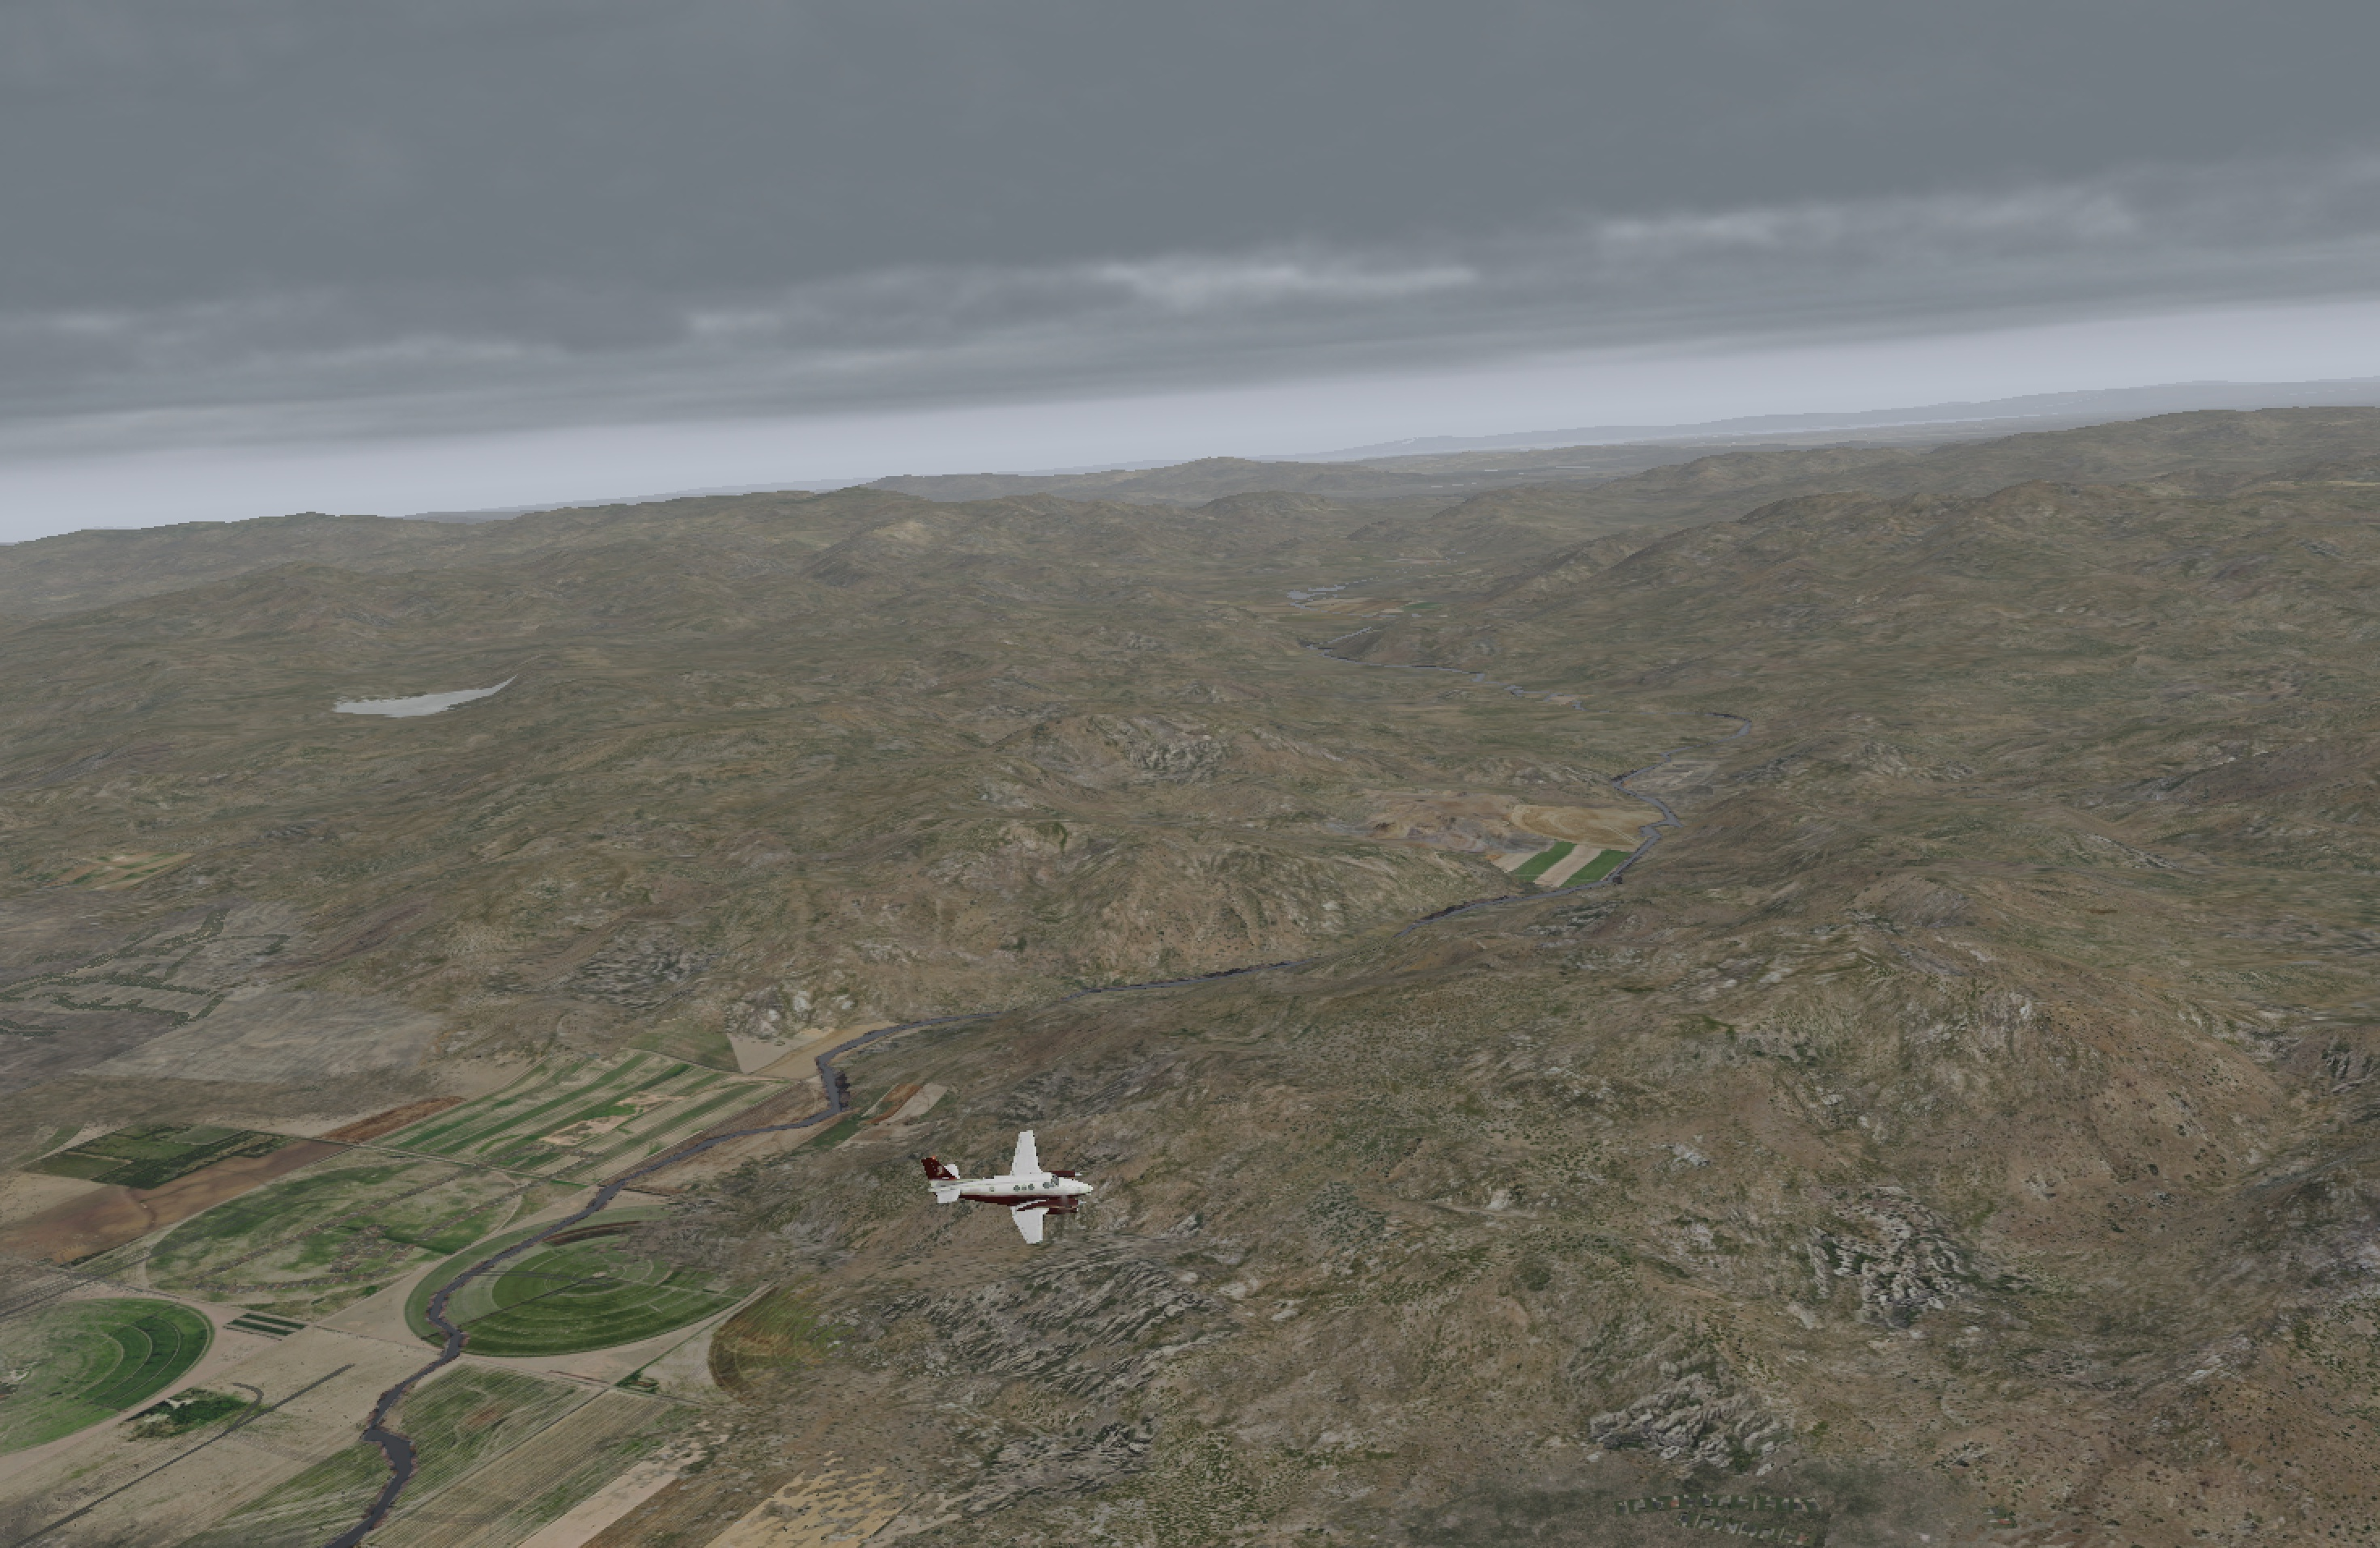aircraft: (918, 1152, 1159, 1243)
